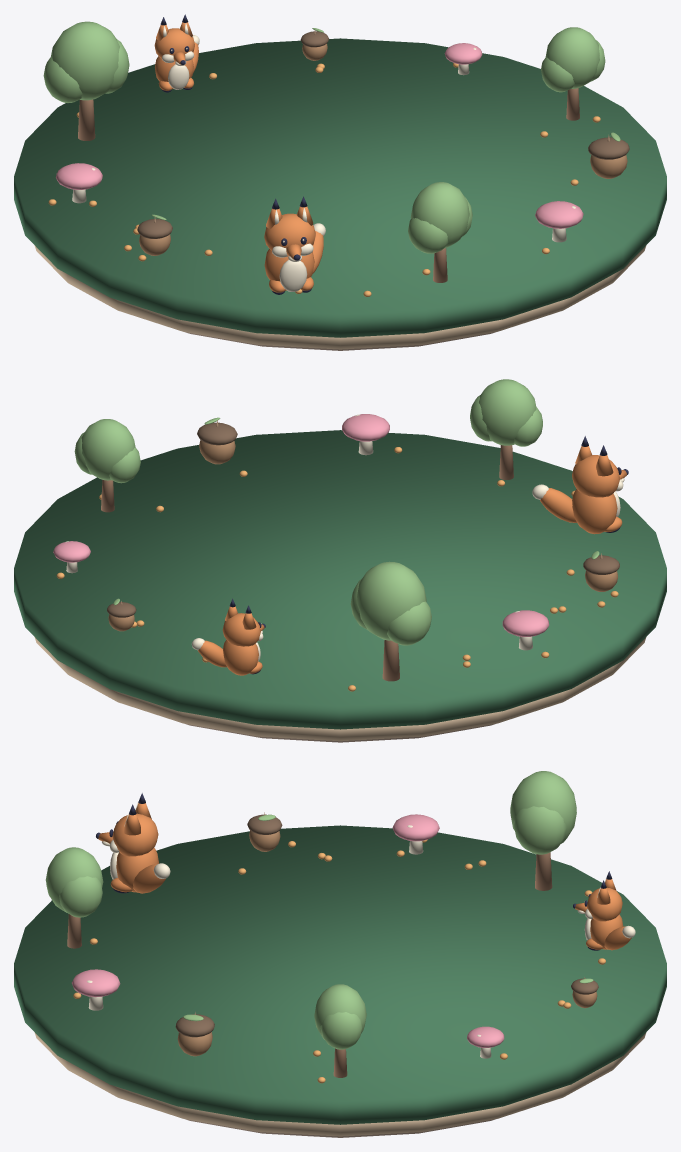
Rendered from world.glb.
3 renders of one model, top to bottom at view 1: azimuth 30°, elevation 25°; view 2: azimuth 150°, elevation 25°; view 3: azimuth 270°, elevation 25°, orthographic.
Visible parts, largest first — view 1: Cone, Cone.001, tree.002, fox.002, tree.003, tree.001, fox.001, acorn.003, mushroom.003, mushroom.002, acorn.002, mushroom.001 (+2 smaller); view 2: Cone, Cone.001, tree.002, fox.002, tree.003, tree.001, fox.001, acorn.003, mushroom.003, mushroom.002, acorn.002, mushroom.001 (+2 smaller); view 3: Cone, Cone.001, tree.002, fox.002, tree.003, tree.001, fox.001, acorn.003, mushroom.003, mushroom.002, acorn.002, mushroom.001 (+2 smaller).
Boxes of the visible parts, box(x1,y1,x2,y2) form: Cone: box(14, 38, 666, 337); Cone.001: box(34, 245, 646, 349); tree.002: box(43, 21, 129, 140); fox.002: box(264, 196, 325, 294); tree.003: box(408, 182, 472, 282); tree.001: box(541, 27, 605, 120); fox.001: box(154, 14, 199, 92); acorn.003: box(588, 132, 629, 178); mushroom.003: box(535, 201, 583, 242); mushroom.002: box(56, 163, 102, 203); acorn.002: box(137, 214, 172, 255); mushroom.001: box(444, 43, 482, 75); Cone: box(14, 430, 666, 729); Cone.001: box(34, 637, 646, 741); tree.002: box(350, 561, 431, 681); fox.002: box(532, 436, 628, 534); tree.003: box(470, 379, 542, 479); tree.001: box(74, 419, 140, 512); fox.001: box(191, 598, 265, 675); acorn.003: box(197, 417, 237, 464); mushroom.003: box(342, 414, 389, 455); mushroom.002: box(502, 610, 549, 650); acorn.002: box(583, 551, 619, 591); mushroom.001: box(53, 541, 90, 573); Cone: box(14, 825, 666, 1124); Cone.001: box(34, 1032, 646, 1136); tree.002: box(510, 771, 576, 890); fox.002: box(96, 793, 170, 893); tree.003: box(45, 847, 103, 948); tree.001: box(314, 984, 366, 1077); fox.001: box(573, 871, 635, 950); acorn.003: box(175, 1012, 214, 1056); mushroom.003: box(72, 969, 120, 1010); mushroom.002: box(392, 814, 439, 854); acorn.002: box(247, 812, 282, 851); mushroom.001: box(467, 1026, 504, 1058).
Size of the model in its own units: 9.6 by 2.63 by 9.6.
